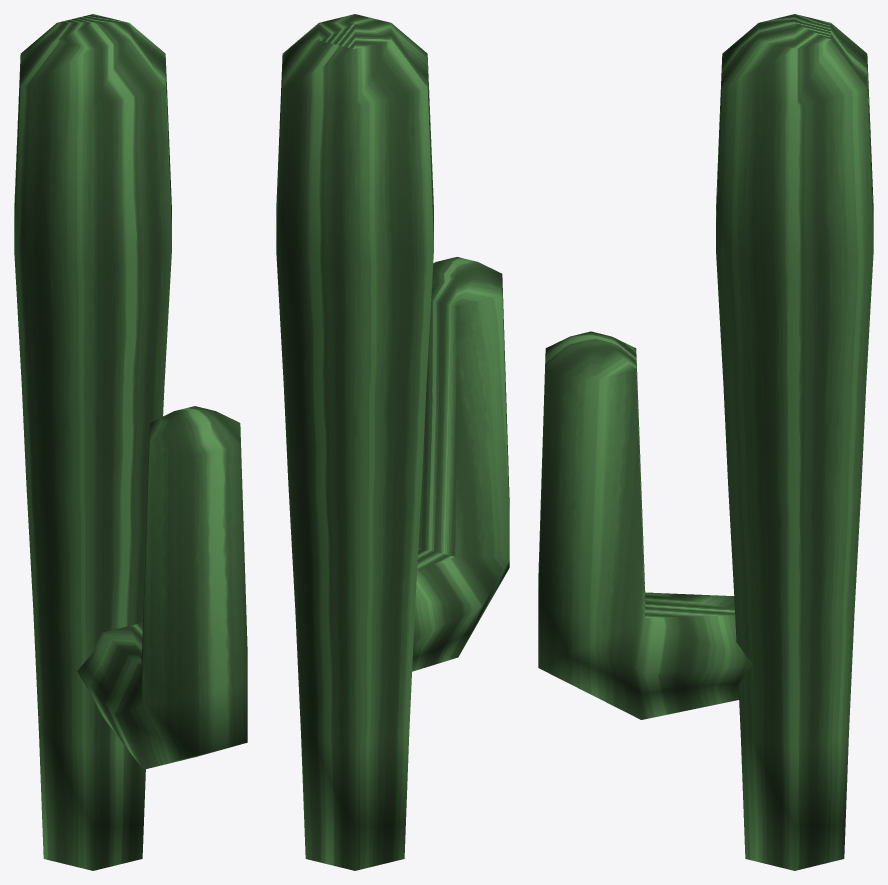
The model's file is Cactus_6.FBX.
3 renders of one model, left to right at view 1: azimuth 30°, elevation 25°; view 2: azimuth 150°, elevation 25°; view 3: azimuth 270°, elevation 25°, orthographic.
Parts seen in each view (by area): view 1: Cactus_6; view 2: Cactus_6; view 3: Cactus_6.
Boxes of the visible parts, x1=… form: Cactus_6: x1=14, y1=14, x2=247, y2=870; Cactus_6: x1=276, y1=14, x2=509, y2=870; Cactus_6: x1=538, y1=14, x2=873, y2=870.
Size of the model in its own units: 2.57 by 4.73 by 12.82.
